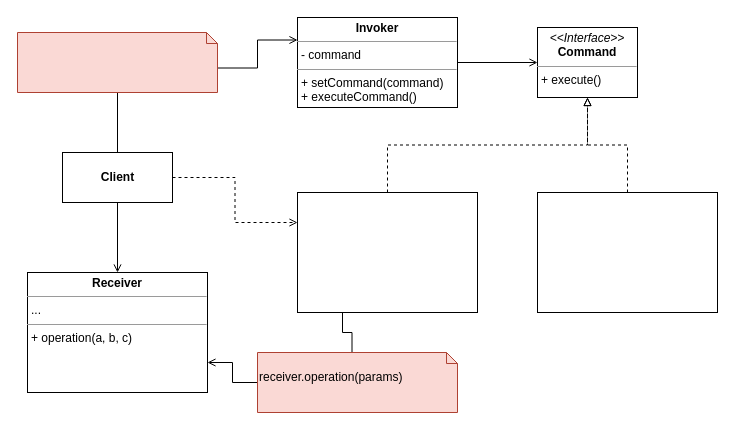
Some shapes in this 735 by 430 pixel diagram are drawn without their labels. Each missing label, with the box of its shape:
ConcreteCommand1 - receiver - params + Command1(receiver, params) + execute(): (296, 192, 478, 312)
ConcreteCommand2 + execute(): (536, 192, 718, 312)
copy = new CopyCommand(editor) button.setCommand(copy): (16, 32, 218, 92)
